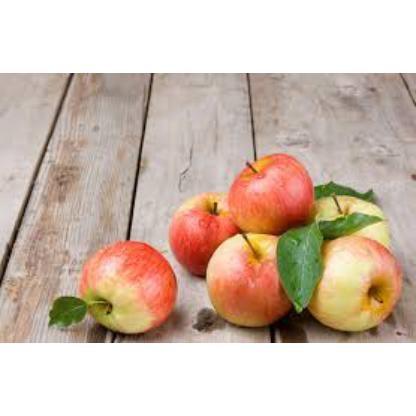apple: (79, 245, 179, 328), (217, 236, 291, 320), (317, 251, 397, 325), (240, 150, 312, 224), (178, 190, 220, 262), (318, 195, 388, 238)
